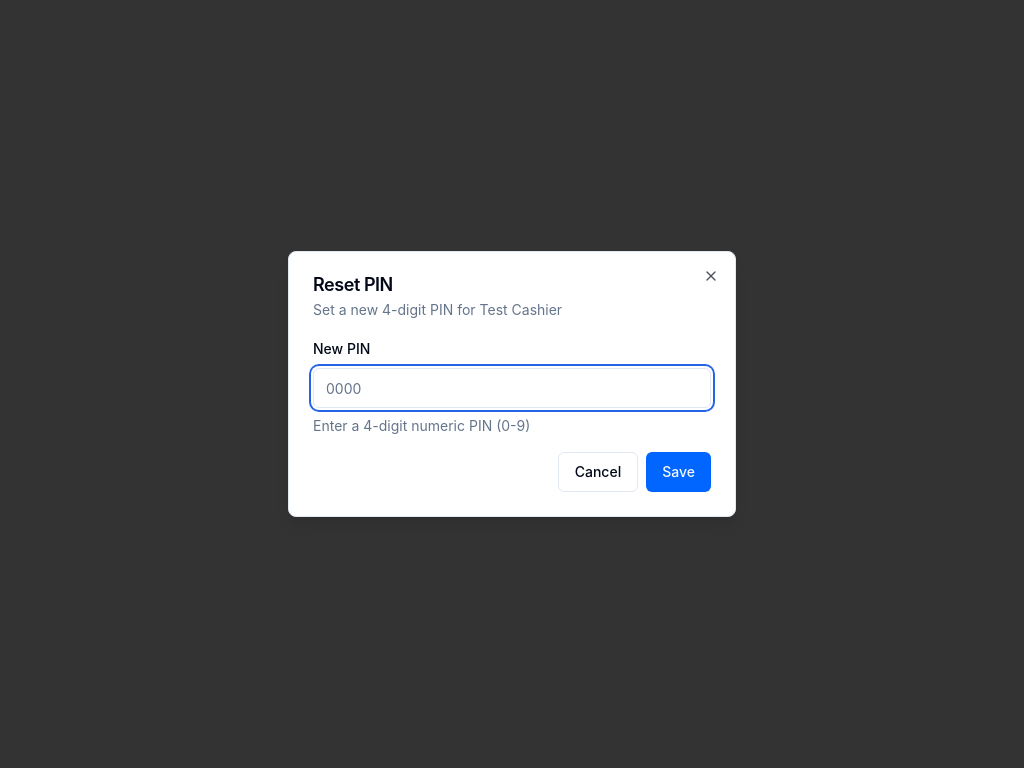
Test: ResetPINModal Component › PIN Validation › should prevent entering more than 4 digits via maxLength
The width and height of the screenshot is (1024, 768).
Type "12345" into the field with test id "pin-input" at (512, 388), box [313, 368, 711, 408]
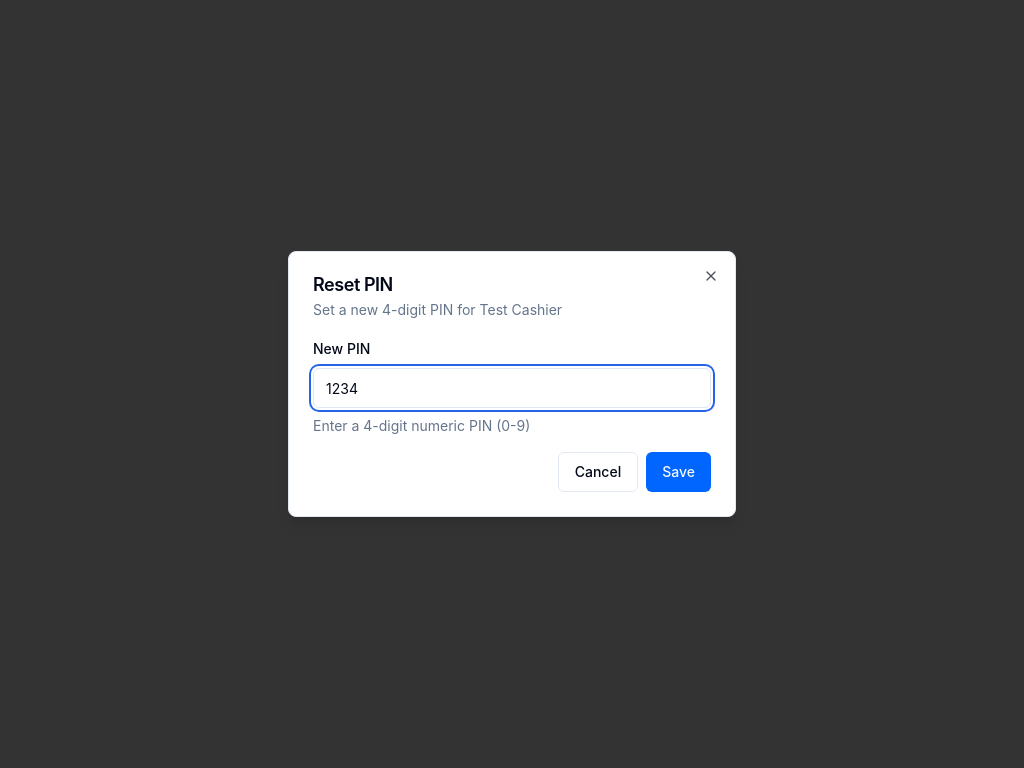
Check: the field with test id "pin-input" holds "1234", box [313, 368, 711, 408]
